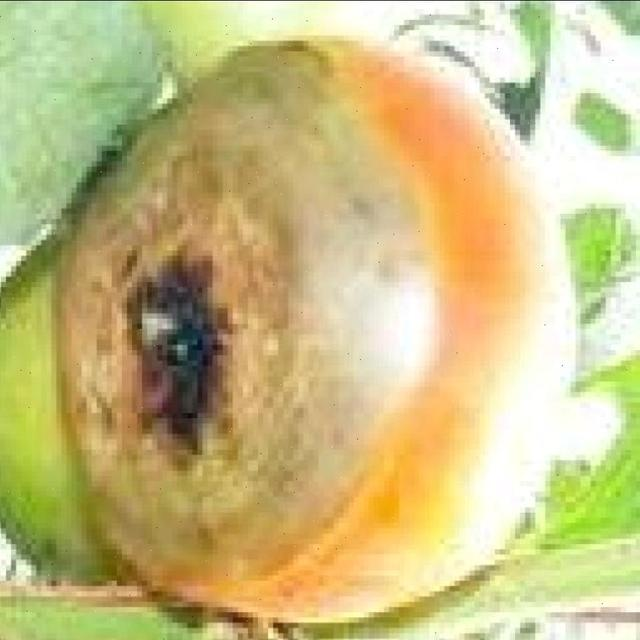Blossom End Rot Fruit: (46, 20, 294, 404)
